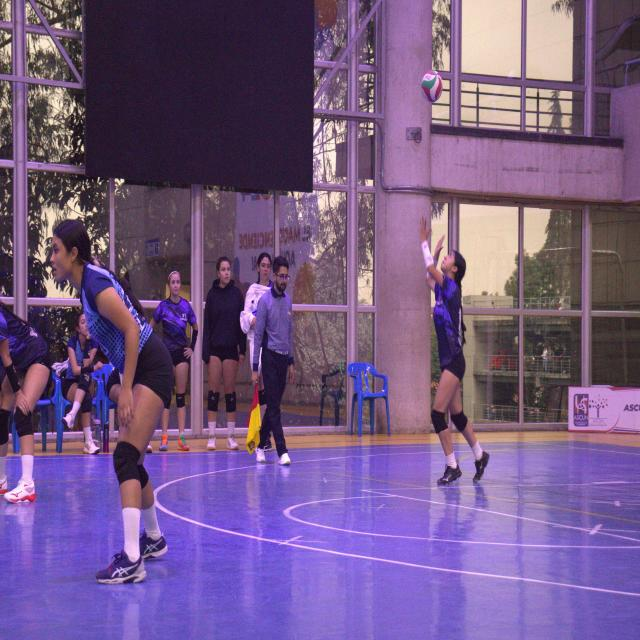volleyball: (421, 70, 443, 104)
